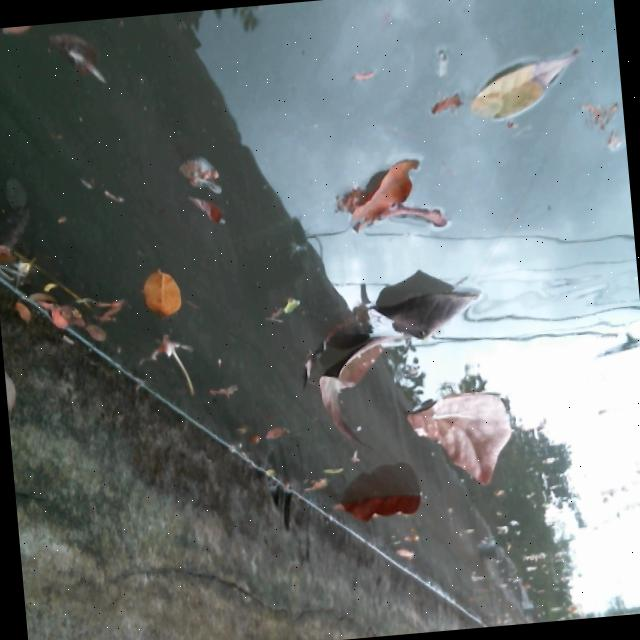Big-leaf: (289, 276, 499, 445), (395, 375, 532, 491), (326, 145, 451, 246), (324, 480, 430, 533)
Small-leaf: (462, 39, 585, 129), (128, 250, 192, 331), (47, 27, 112, 96), (171, 143, 230, 193), (255, 409, 297, 452), (186, 189, 233, 227), (203, 360, 240, 408), (390, 534, 431, 572), (69, 306, 104, 346), (35, 297, 70, 335), (424, 97, 468, 124), (6, 287, 34, 328), (315, 462, 348, 487), (0, 230, 23, 258)
